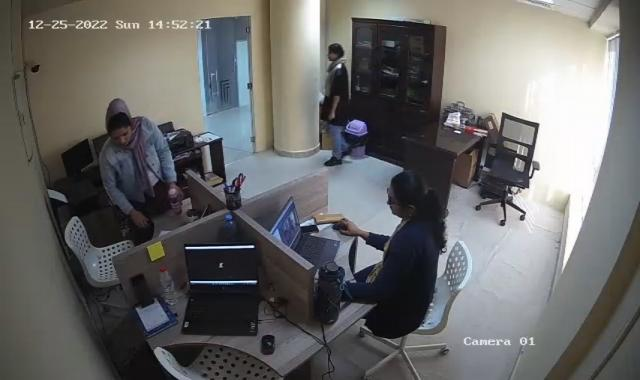no_hairnet: (385, 174, 425, 217), (104, 100, 135, 143), (328, 44, 344, 62)
